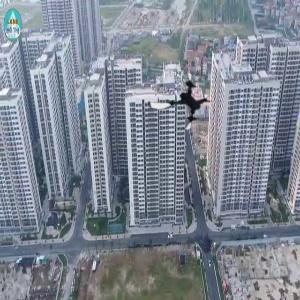drone: (149, 69, 214, 134)
